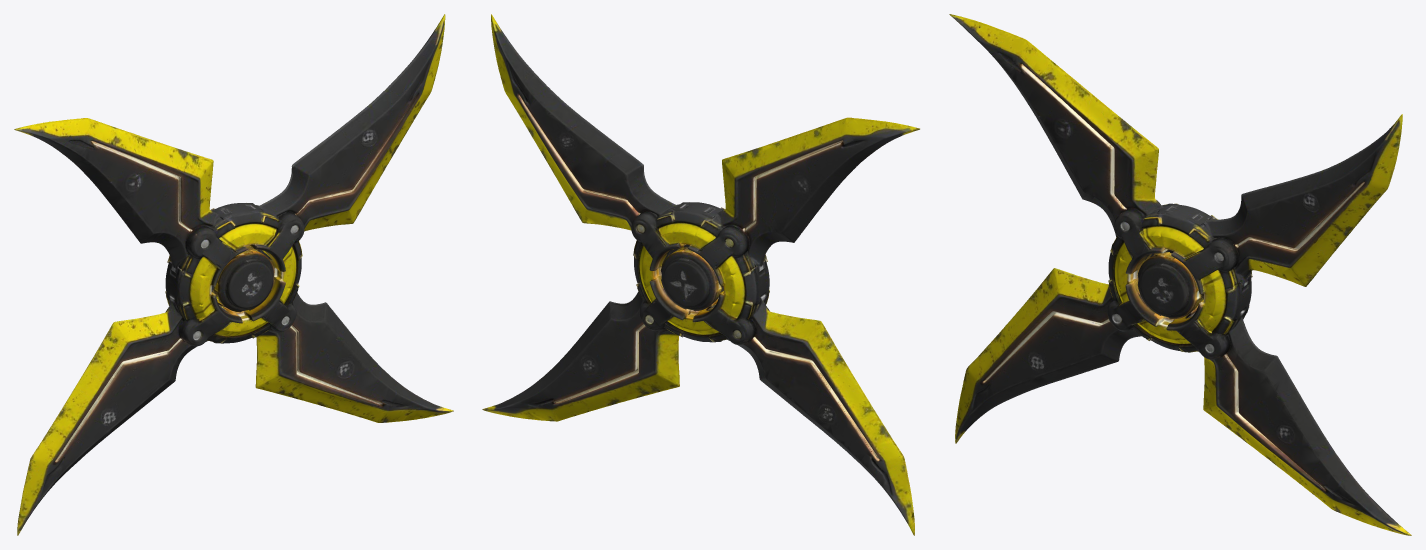
Rendered from shuriken-optimized.glb.
3 views of the same model, side by side, from view 1: azimuth 30°, elevation 25°; view 2: azimuth 150°, elevation 25°; view 3: azimuth 330°, elevation 25° (orthographic). The views are drawn at different scales.
Visible parts, largest first — view 1: Object_4; view 2: Object_4; view 3: Object_4.
Boxes of the visible parts, bbox=[...] form: Object_4: bbox=[14, 14, 453, 535]; Object_4: bbox=[482, 14, 919, 535]; Object_4: bbox=[949, 14, 1411, 535].
Bounding box in the file's own units: 1.9 × 1.73 × 0.2602.
1 material, 1 textured.
